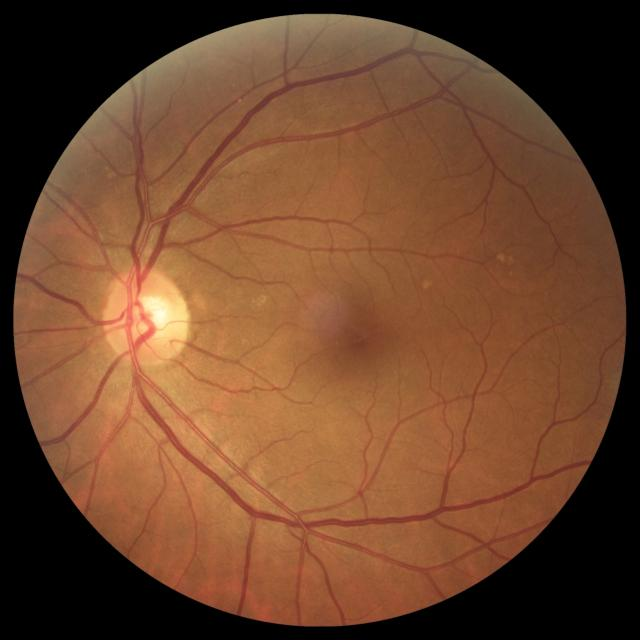OC: (128, 295, 168, 334)
OD: (100, 267, 191, 371)
